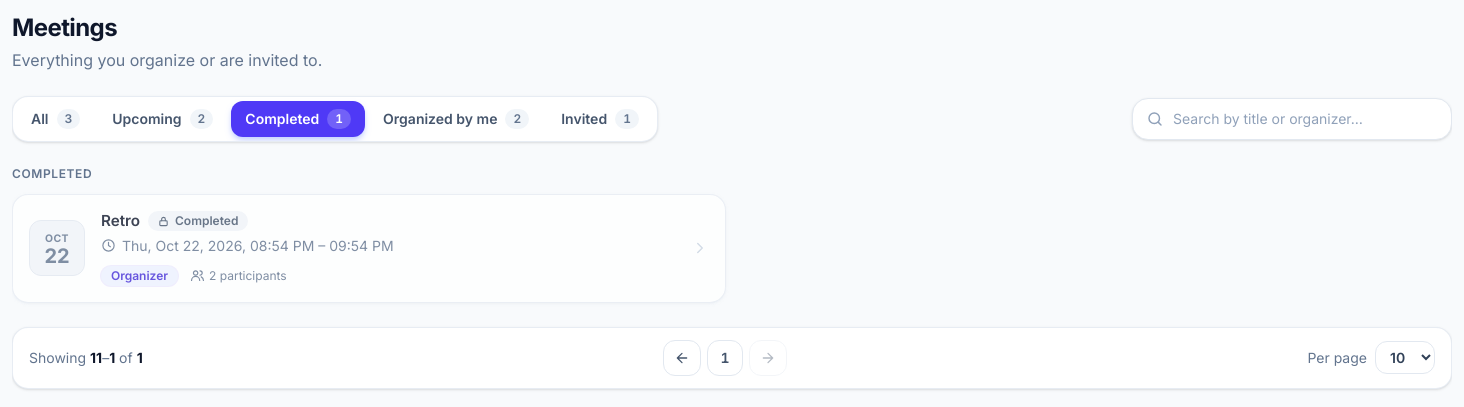
Scenario: MeetingsPage › sends the selected tab to the server, starting from the tab in the URL
The width and height of the screenshot is (1464, 407).
expect the tab "Completed 1" is shown: met, box [231, 101, 365, 137]
Click the tab "Invited 1" at (600, 119), box [547, 101, 653, 137]
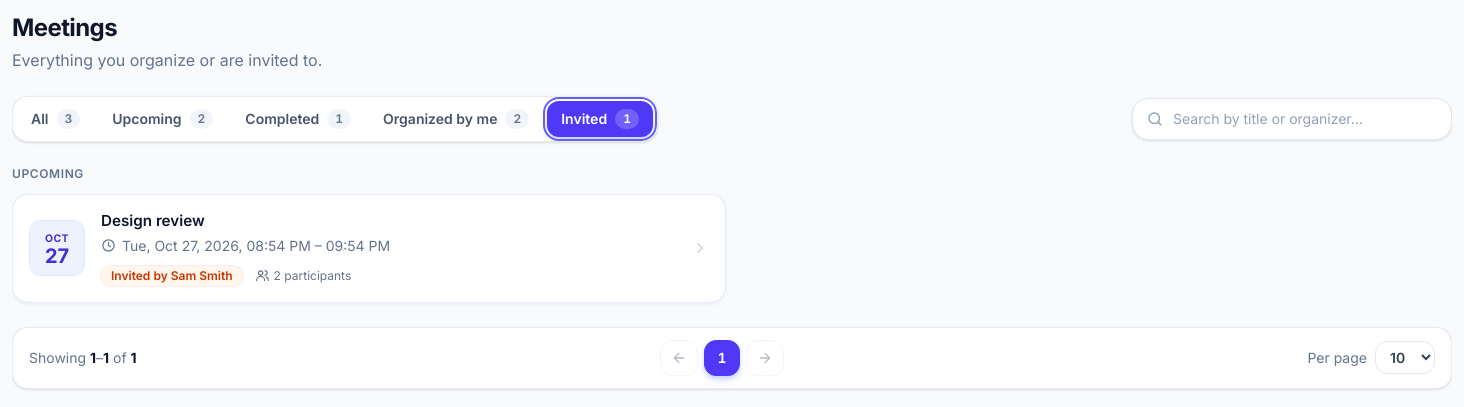
expect the heading "Design review" is shown: met, box [101, 211, 205, 230]
